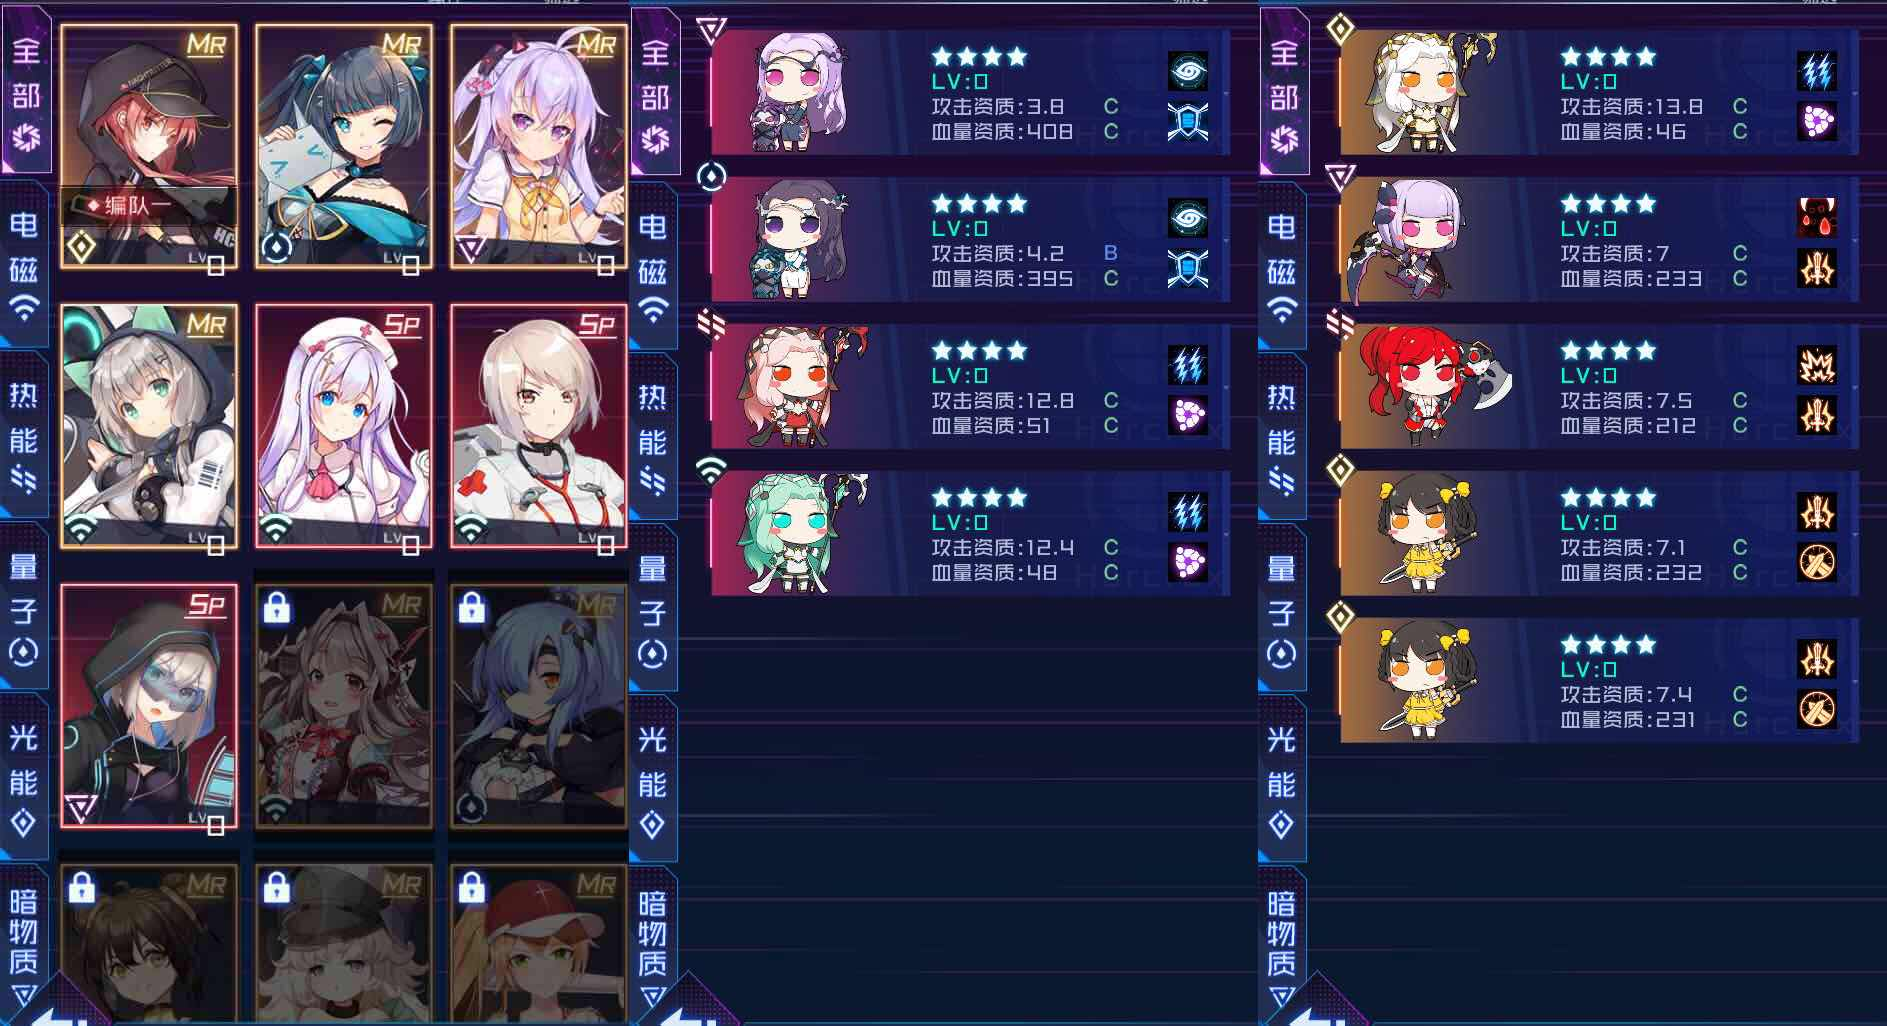sp奥德丽: (53, 575, 243, 756)
